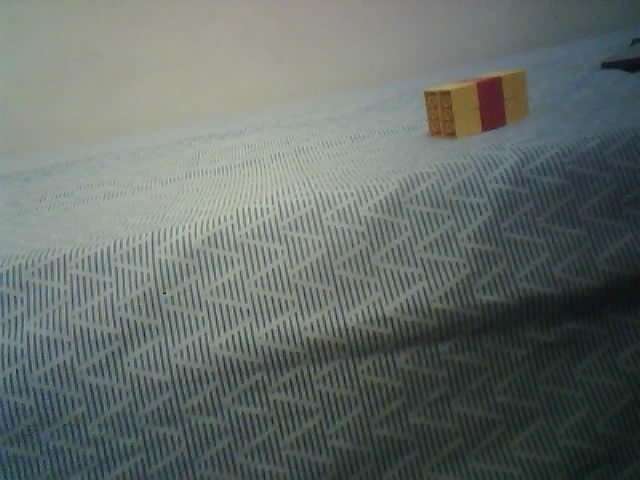lego: (422, 69, 529, 140)
